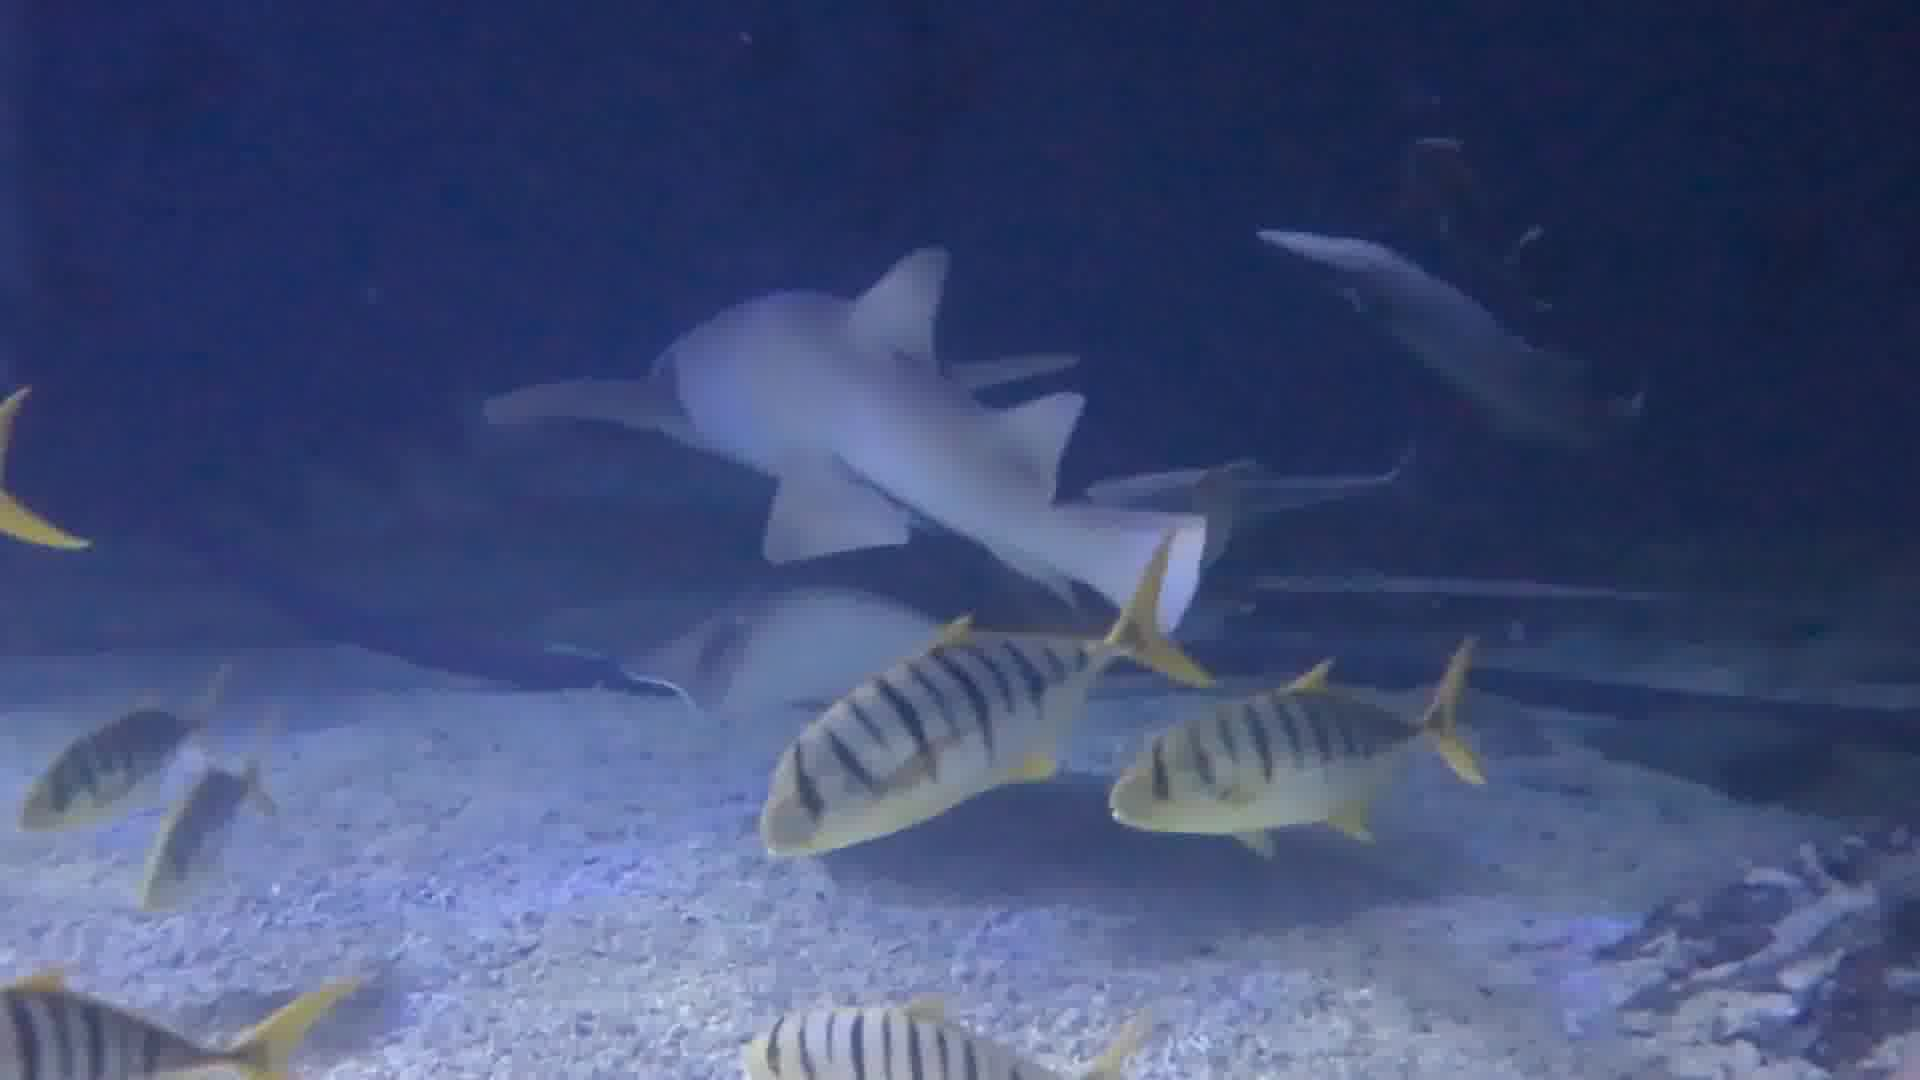Nebrius ferrugineus: (640, 266, 1095, 587)
